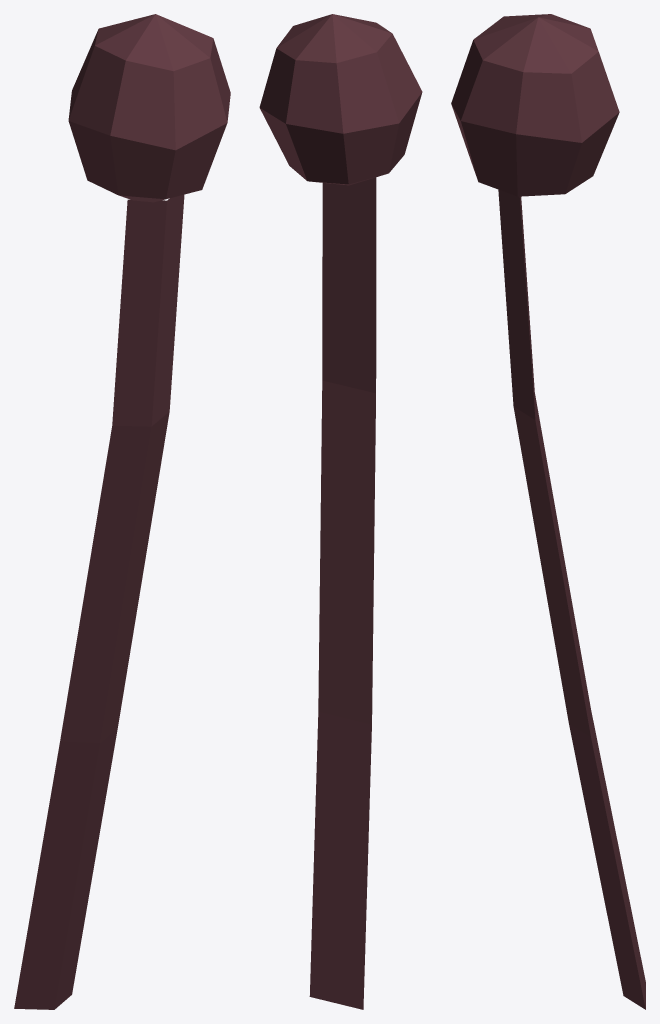
The model's file is scifi-scifi-plant-orb-small.glb.
The picture shows the model from 3 angles, left to right: view 1: azimuth 30°, elevation 25°; view 2: azimuth 150°, elevation 25°; view 3: azimuth 270°, elevation 25°; orthographic projection. The views are drawn at different scales.
Visible parts, largest first — view 1: scifi-plant-orb-small; view 2: scifi-plant-orb-small; view 3: scifi-plant-orb-small.
Boxes of the visible parts, <box> form: scifi-plant-orb-small: <box>14,14,230,1009</box>; scifi-plant-orb-small: <box>259,14,422,1009</box>; scifi-plant-orb-small: <box>451,14,645,1009</box>.
Bounding box in the file's own units: 0.1989 × 1.27 × 0.2228.
